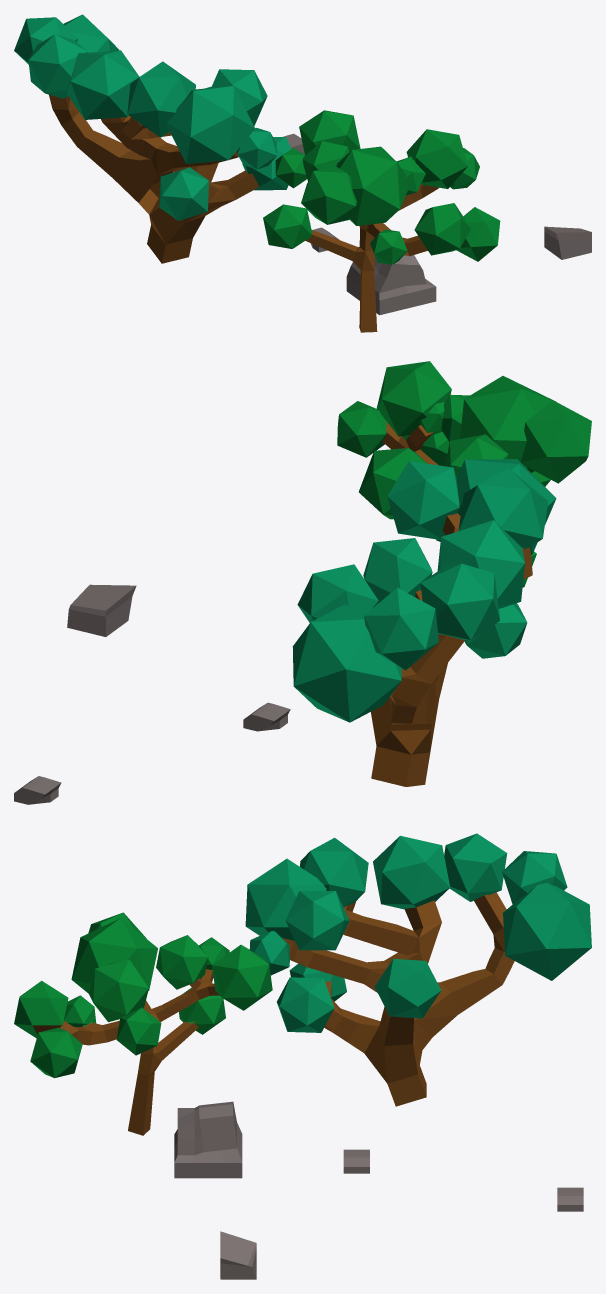
File: TREEES.fbx
The picture shows the model from 3 angles, top to bottom: view 1: azimuth 30°, elevation 25°; view 2: azimuth 150°, elevation 25°; view 3: azimuth 270°, elevation 25°; orthographic projection. The views are drawn at different scales.
Visible parts, largest first — view 1: Cube.011, Cube.010, Cube.012, Cube.013; view 2: Cube.011, Cube.010, Cube.013, Cube.020, Cube.014; view 3: Cube.011, Cube.010, Cube.012, Cube.013, Cube.020, Cube.014.
Boxes of the visible parts, <box> form: Cube.011: <box>14,14,291,263</box>; Cube.010: <box>263,110,500,332</box>; Cube.012: <box>346,255,436,315</box>; Cube.013: <box>544,226,591,259</box>; Cube.011: <box>292,459,556,786</box>; Cube.010: <box>337,361,591,587</box>; Cube.013: <box>67,584,136,636</box>; Cube.020: <box>14,776,61,804</box>; Cube.014: <box>243,702,290,731</box>; Cube.011: <box>245,833,591,1106</box>; Cube.010: <box>14,912,272,1135</box>; Cube.012: <box>174,1101,242,1178</box>; Cube.013: <box>220,1231,256,1279</box>; Cube.020: <box>557,1187,583,1211</box>; Cube.014: <box>343,1149,369,1173</box>.
Size of the model in its own units: 15.52 by 17.01 by 7.88.
